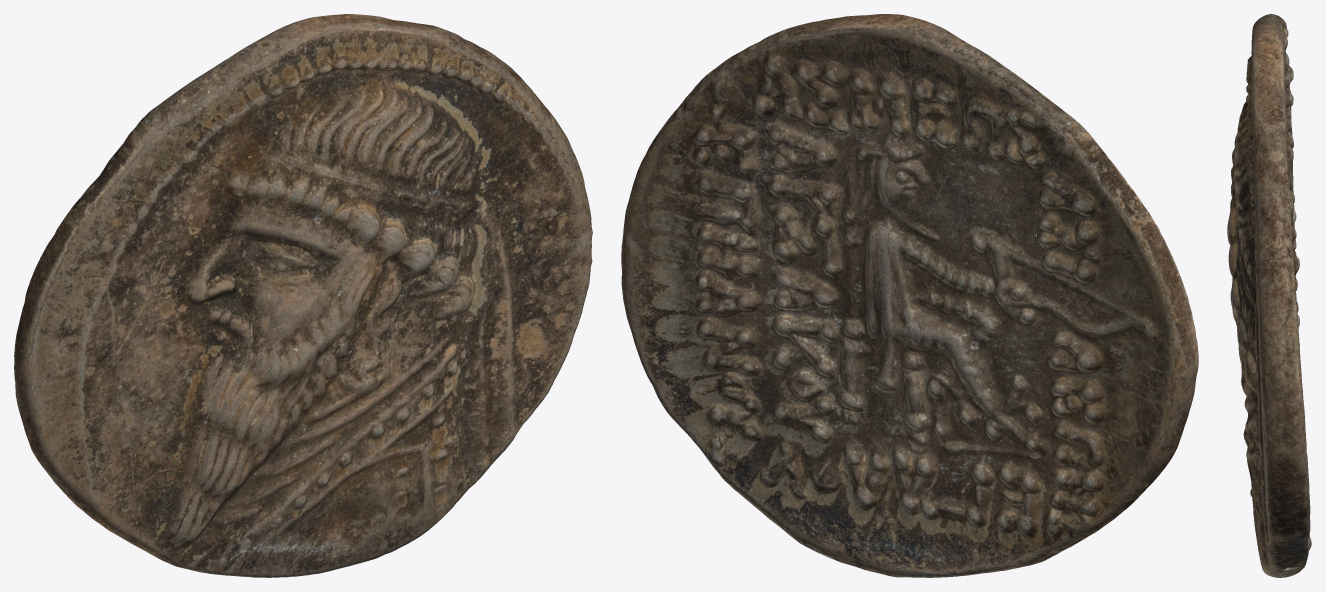
File: silver_drachm_of_mithradates_ii.glb
3 renders of one model, left to right at view 1: azimuth 30°, elevation 25°; view 2: azimuth 150°, elevation 25°; view 3: azimuth 270°, elevation 25°, orthographic. The views are drawn at different scales.
Visible parts, largest first — view 1: Model; view 2: Model; view 3: Model.
Part boxes in pixels (x1,y1,x2,y2): Model: (14, 14, 592, 577); Model: (621, 14, 1198, 577); Model: (1227, 14, 1311, 577).
Bounding box in the file's own units: 0.1674 × 0.1559 × 0.0233.
1 material, 1 textured.
